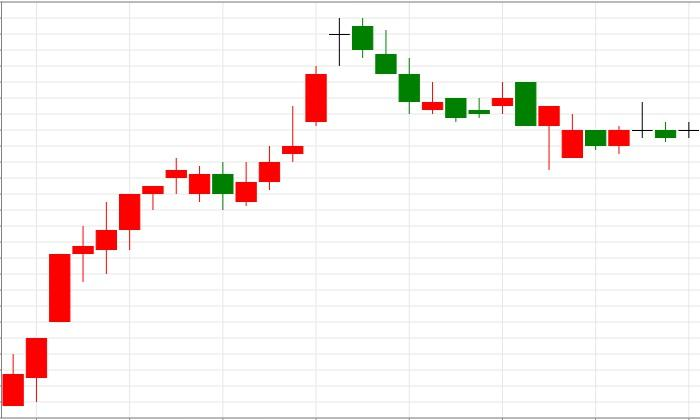three_black_crows_fall: (235, 17, 420, 207)
